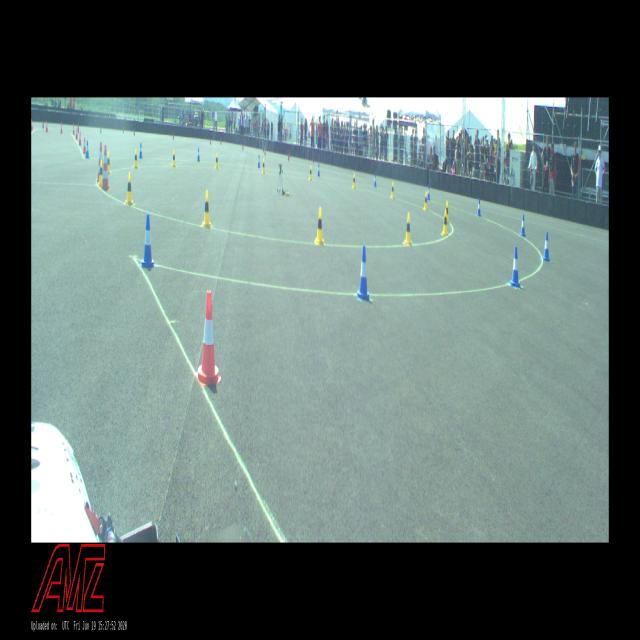blue_cone: (355, 245, 371, 302), (140, 213, 155, 268), (509, 246, 522, 289), (542, 232, 550, 262), (520, 214, 526, 237), (86, 140, 90, 158), (477, 199, 481, 216), (139, 143, 143, 158), (427, 185, 430, 200), (197, 148, 200, 162), (317, 162, 320, 176), (374, 173, 376, 187), (258, 154, 260, 168)
large_orange_cone: (102, 145, 110, 191), (97, 142, 103, 183)
orange_cone: (196, 291, 221, 386), (78, 132, 82, 146), (83, 137, 86, 154), (46, 121, 48, 132), (76, 128, 78, 139), (73, 124, 75, 135), (32, 120, 34, 130), (61, 122, 62, 134)
yellow_cone: (314, 207, 325, 245), (202, 190, 212, 228), (403, 213, 412, 245), (125, 173, 134, 205), (442, 208, 448, 236), (444, 201, 449, 223), (423, 191, 428, 210), (107, 152, 111, 174), (99, 159, 102, 187), (134, 149, 138, 168), (172, 150, 176, 167), (352, 173, 356, 189), (215, 153, 219, 168), (391, 182, 394, 199), (262, 159, 265, 174), (309, 166, 312, 180)
